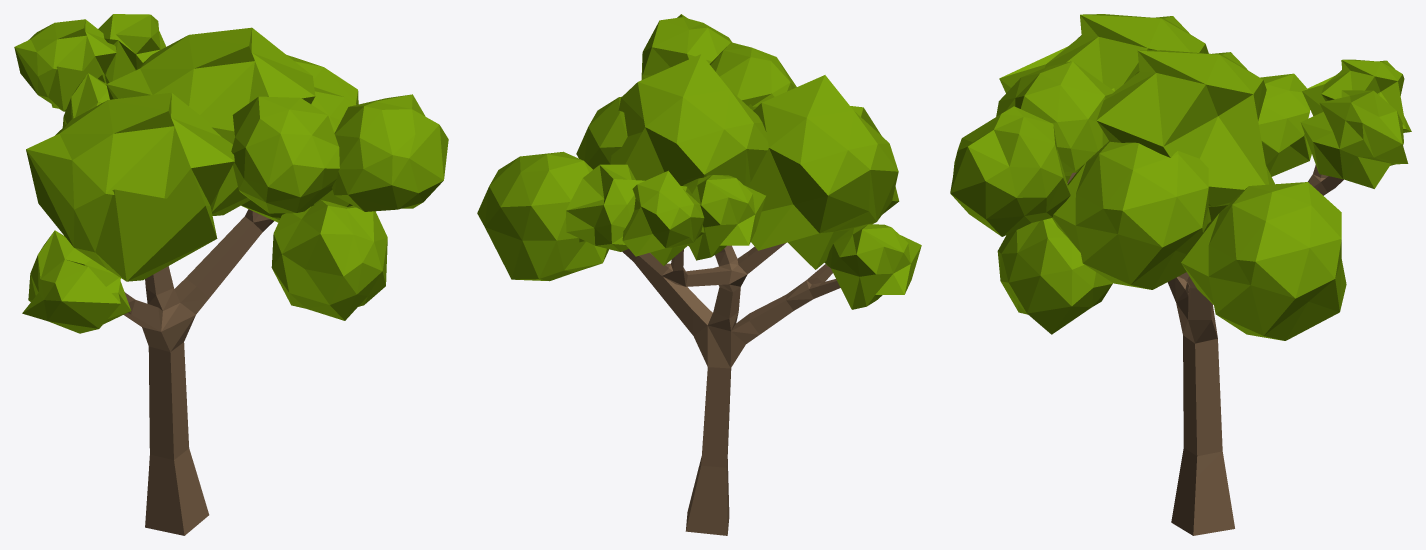
File: tree_01.glb
3 renders of one model, left to right at view 1: azimuth 30°, elevation 25°; view 2: azimuth 150°, elevation 25°; view 3: azimuth 270°, elevation 25°, orthographic. The views are drawn at different scales.
Visible parts, largest first — view 1: tree_model; view 2: tree_model; view 3: tree_model.
Boxes of the visible parts, <box> form: tree_model: <box>14,14,448,535</box>; tree_model: <box>477,14,921,535</box>; tree_model: <box>950,14,1411,535</box>.
Size of the model in its own units: 11.25 by 13.31 by 11.19.
